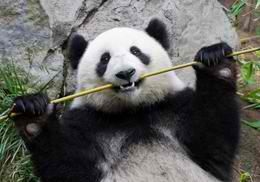panda: (6, 16, 240, 182)
